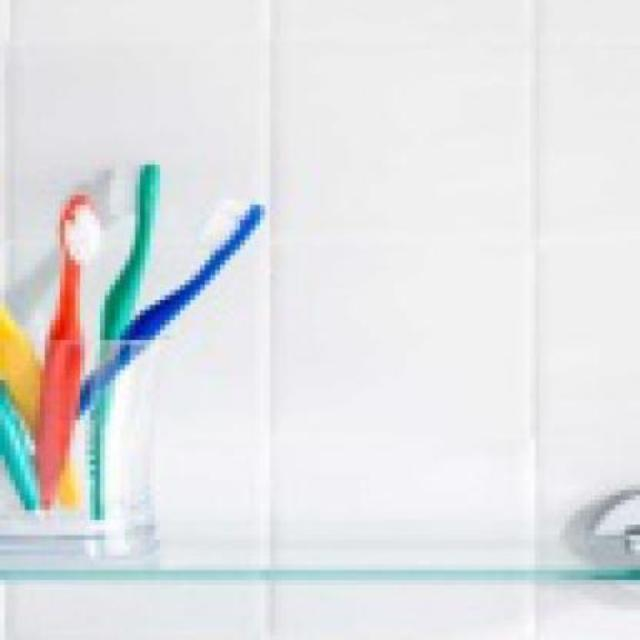toothbrush: (41, 157, 105, 421), (189, 156, 261, 368)
